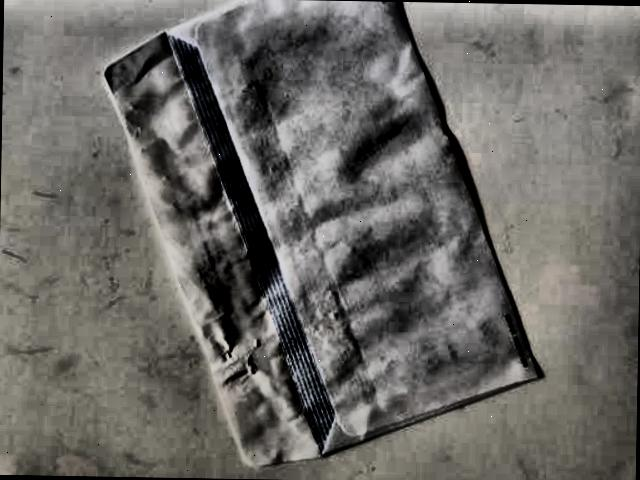Paper: (109, 0, 549, 464)
